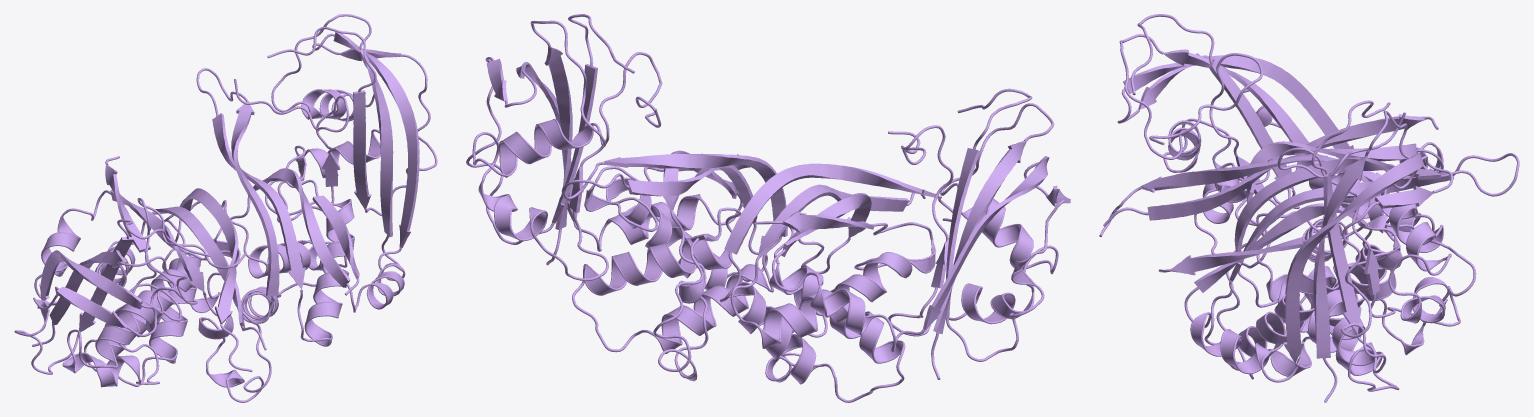
Rendered from protein-structure.glb.
The picture shows the model from 3 angles, left to right: view 1: azimuth 30°, elevation 25°; view 2: azimuth 150°, elevation 25°; view 3: azimuth 270°, elevation 25°; orthographic projection. The views are drawn at different scales.
Parts seen in each view (by area): view 1: Shape; view 2: Shape; view 3: Shape.
Part boxes in pixels (x1=…): Shape: x1=14, y1=14, x2=437, y2=402; Shape: x1=466, y1=14, x2=1070, y2=402; Shape: x1=1099, y1=14, x2=1519, y2=402.
Bounding box in the file's own units: 86.21 × 55.28 × 60.28.
